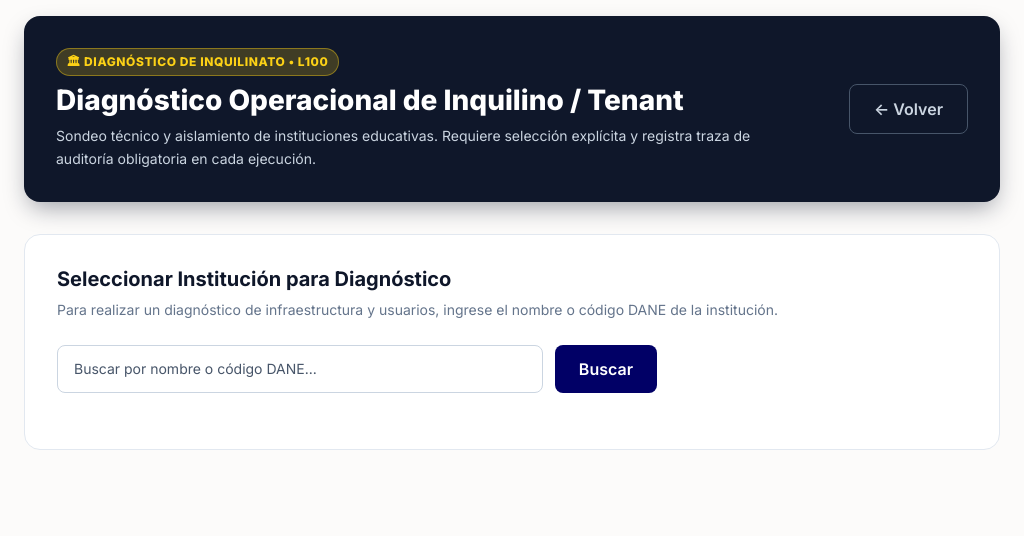
it: NTA-10-R8: Tenant Diagnostics DANE & Name Search Verification › 6. Loading state is correctly reset after success and failure
Type "Failure" into the field labelled "Buscar por nombre o código DANE...". click: (300, 369)
box: [57, 345, 543, 393]
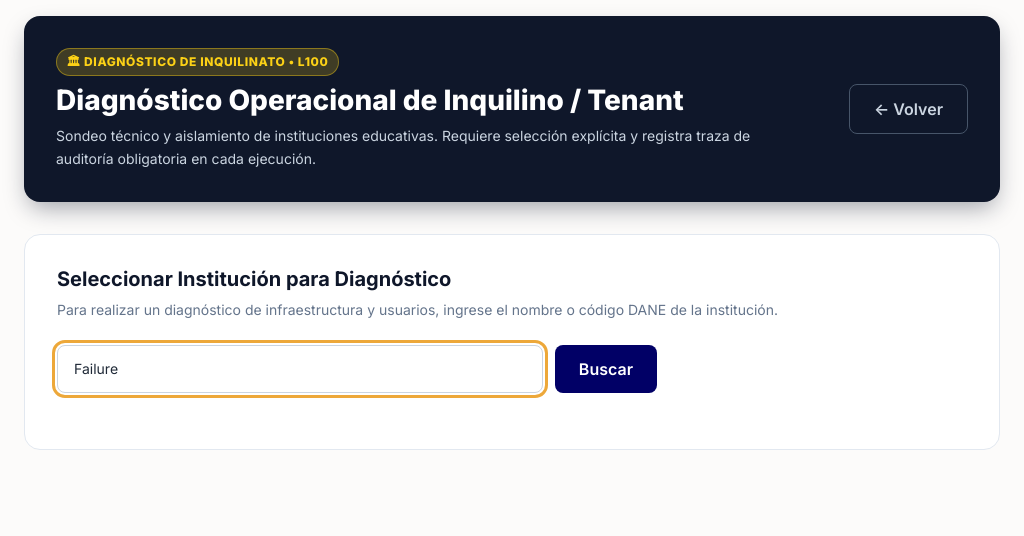
Click the button "Buscar". click: (606, 369)
box: [555, 345, 657, 393]
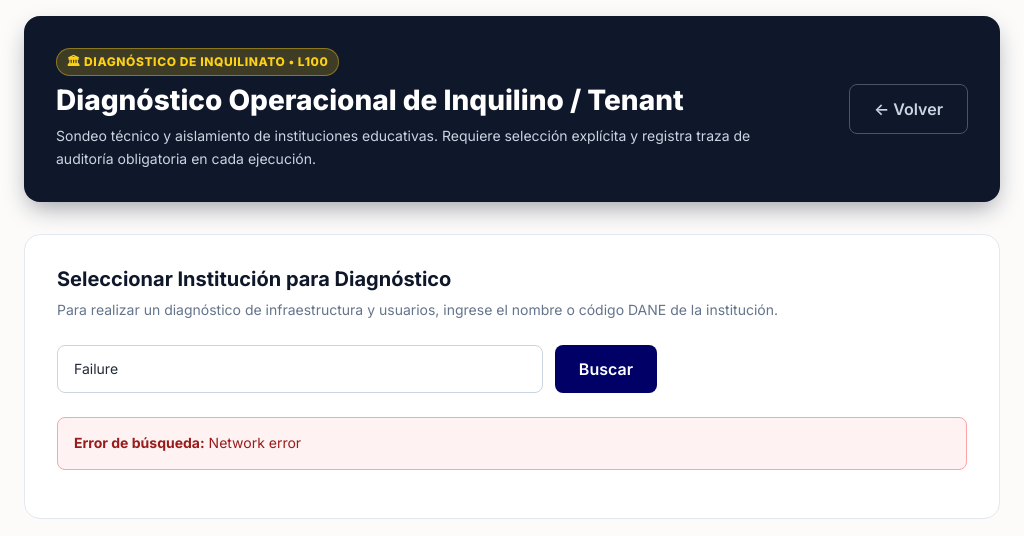
expect the message "Error de búsqueda: Network error" is shown: met, box [57, 417, 967, 470]
